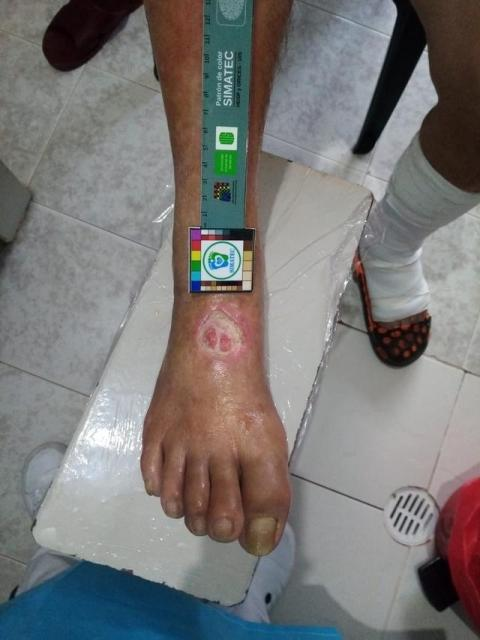wound: (199, 307, 246, 358)
